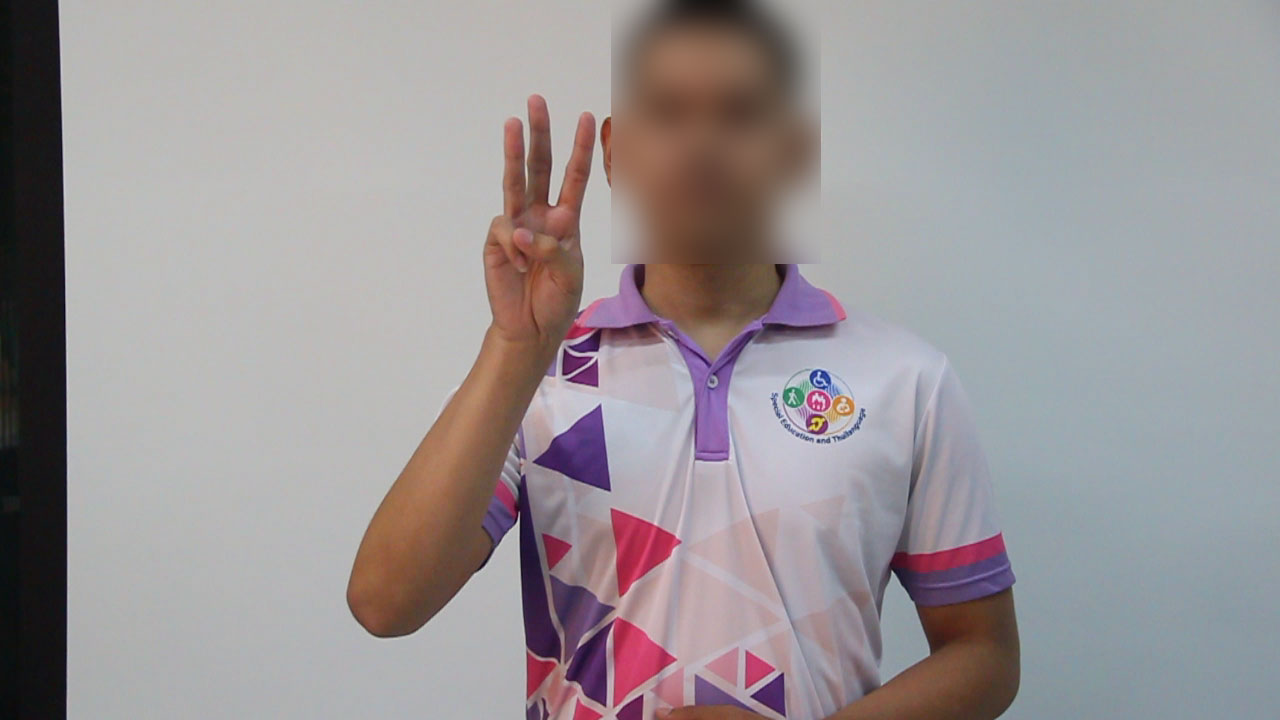wor: (474, 87, 602, 344)
